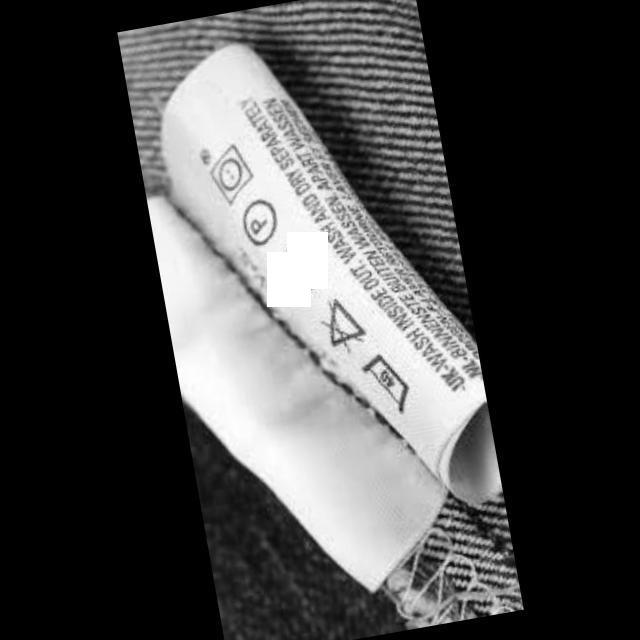40C: (356, 342, 418, 423)
DN_bleach: (311, 289, 371, 358)
normal_dry_clean_solvents: (234, 190, 286, 252)
tumble_dry_medium: (200, 134, 262, 212)
